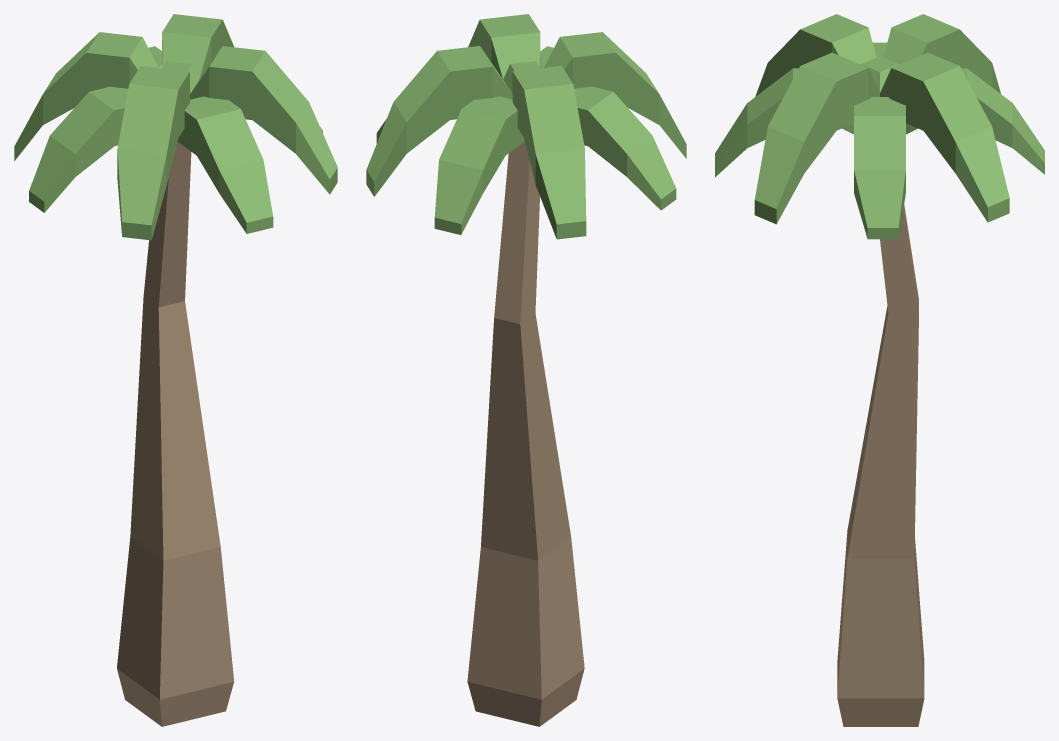
The model's file is palm.glb.
3 views of the same model, side by side, from view 1: azimuth 30°, elevation 25°; view 2: azimuth 150°, elevation 25°; view 3: azimuth 270°, elevation 25° (orthographic).
Visible parts, largest first — view 1: palm; view 2: palm; view 3: palm.
Boxes of the visible parts, x1,y1,x2,y2 form: palm: [14, 14, 337, 726]; palm: [366, 14, 686, 726]; palm: [715, 14, 1044, 726].
Size of the model in its own units: 0.4505 by 1 by 0.4505.
